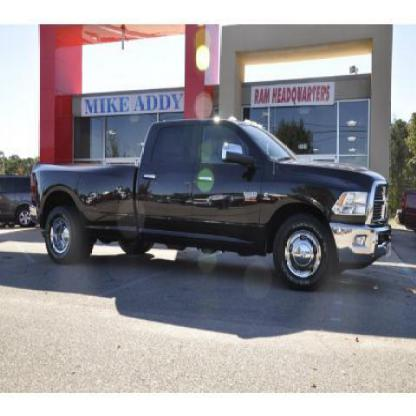Vehicle: (30, 115, 394, 289)
